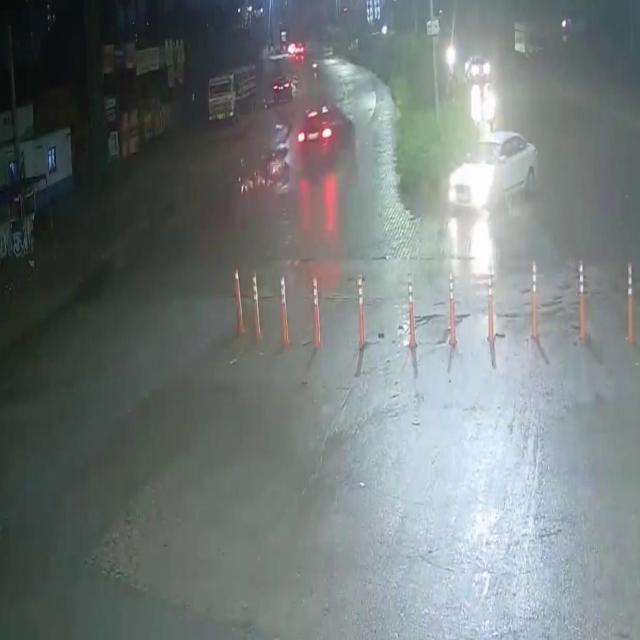accident: (236, 137, 298, 199)
